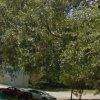Tree: (34, 4, 100, 89)
